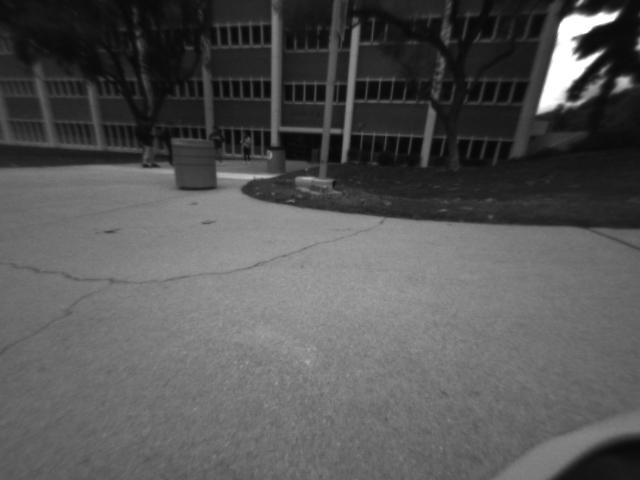trashcan: (168, 136, 219, 199), (262, 146, 286, 177)
